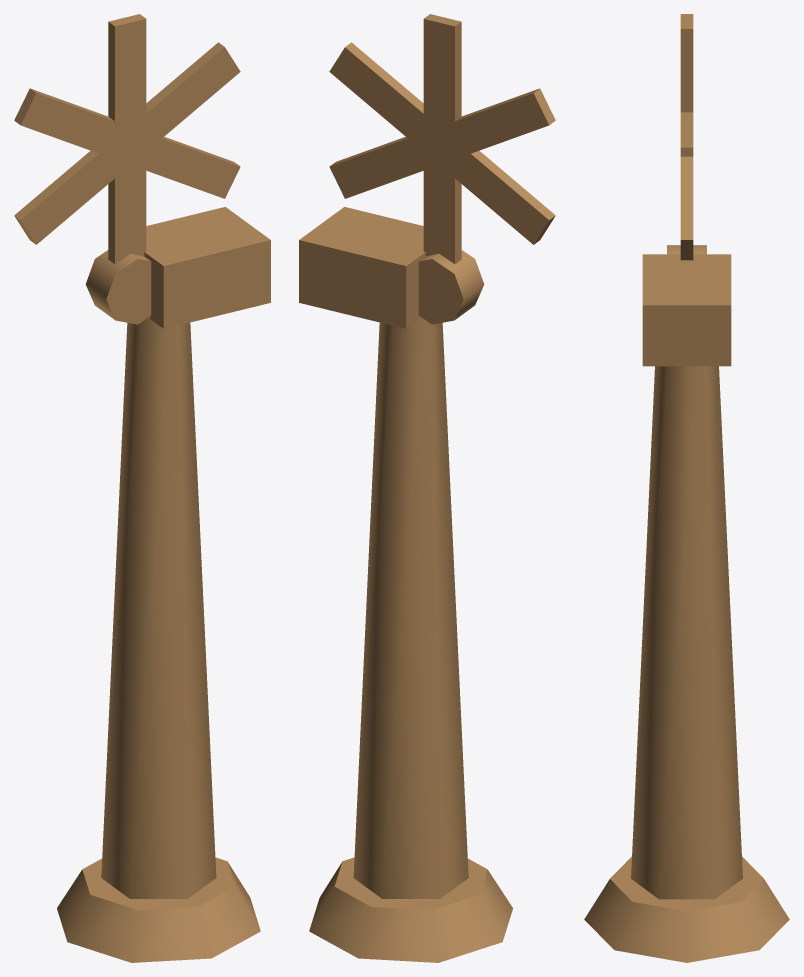
Rendered from WindTurbine.glb.
The picture shows the model from 3 angles, left to right: view 1: azimuth 30°, elevation 25°; view 2: azimuth 150°, elevation 25°; view 3: azimuth 270°, elevation 25°; orthographic projection. The views are drawn at different scales.
Visible parts, largest first — view 1: hand-pump-static-wind-turbine-white, hand-pump-static-wind-turbine-base, hand-pump-static-wind-turbine-nacelle; view 2: hand-pump-static-wind-turbine-white, hand-pump-static-wind-turbine-base, hand-pump-static-wind-turbine-nacelle; view 3: hand-pump-static-wind-turbine-white, hand-pump-static-wind-turbine-base, hand-pump-static-wind-turbine-nacelle.
Part boxes in pixels (left/top/right/bottom): hand-pump-static-wind-turbine-white: left=14, top=14, right=240, bottom=898; hand-pump-static-wind-turbine-base: left=57, top=857, right=260, bottom=962; hand-pump-static-wind-turbine-nacelle: left=144, top=207, right=270, bottom=328; hand-pump-static-wind-turbine-white: left=329, top=14, right=555, bottom=898; hand-pump-static-wind-turbine-base: left=309, top=857, right=512, bottom=962; hand-pump-static-wind-turbine-nacelle: left=299, top=207, right=425, bottom=328; hand-pump-static-wind-turbine-white: left=631, top=14, right=742, bottom=899; hand-pump-static-wind-turbine-base: left=584, top=856, right=789, bottom=962; hand-pump-static-wind-turbine-nacelle: left=642, top=254, right=731, bottom=366.
Bounding box in the file's own units: 1.63 × 6.07 × 1.28.
